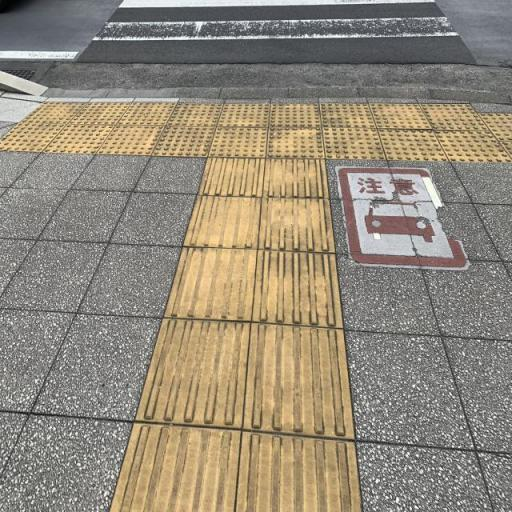dot: (433, 130, 511, 162), (377, 128, 449, 161), (322, 127, 388, 161), (42, 124, 115, 153), (151, 126, 217, 158), (95, 125, 164, 155), (419, 103, 491, 131), (208, 127, 268, 158), (266, 127, 324, 159), (368, 103, 433, 130), (19, 102, 87, 124), (67, 102, 131, 125), (115, 102, 177, 125), (165, 103, 224, 127), (319, 103, 376, 127), (269, 103, 321, 128), (217, 104, 271, 128)
line: (244, 324, 357, 441), (135, 319, 251, 428), (252, 249, 345, 327), (162, 246, 259, 320), (183, 194, 263, 249), (257, 198, 336, 252), (197, 157, 266, 197), (262, 159, 330, 199)
